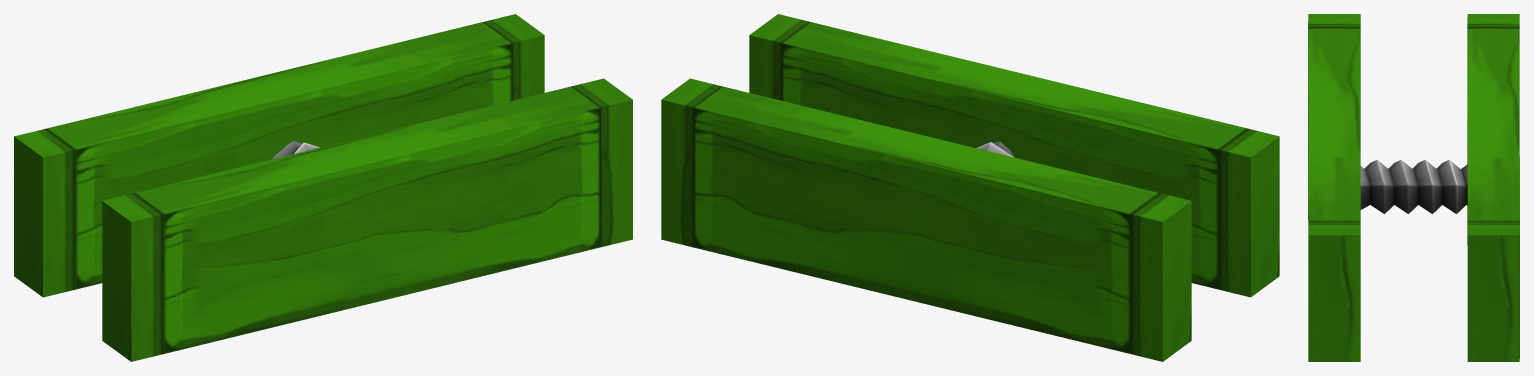
File: fence_green_02.fbx
3 renders of one model, left to right at view 1: azimuth 30°, elevation 25°; view 2: azimuth 150°, elevation 25°; view 3: azimuth 270°, elevation 25°, orthographic. The views are drawn at different scales.
Parts seen in each view (by area): view 1: front_wall_6, back_wall_2; view 2: back_wall_2, front_wall_6; view 3: back_wall_2, front_wall_6, spring_8.
Boxes of the visible parts, box(x1,y1,x2,y2) form: front_wall_6: box(102, 78, 632, 361); back_wall_2: box(14, 14, 544, 297); back_wall_2: box(661, 78, 1191, 361); front_wall_6: box(749, 14, 1279, 297); back_wall_2: box(1467, 14, 1519, 361); front_wall_6: box(1308, 14, 1360, 361); spring_8: box(1360, 159, 1467, 213).
Size of the model in its own units: 150 by 40 by 60.64.
